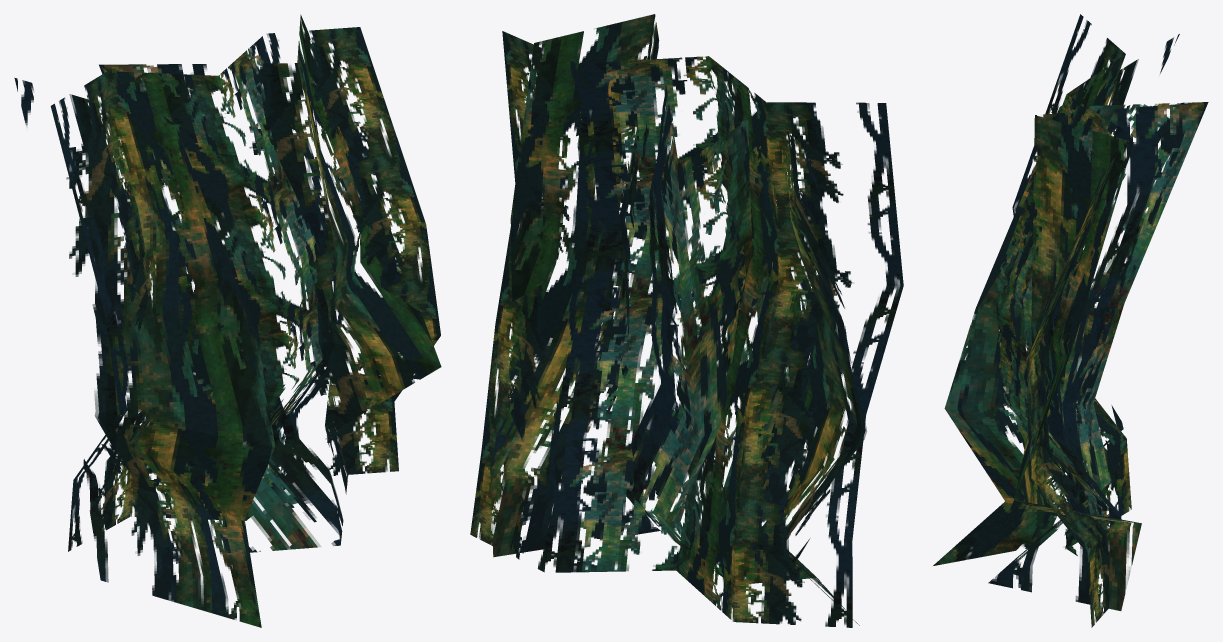
Rendered from vine_wall.glb.
3 views of the same model, side by side, from view 1: azimuth 30°, elevation 25°; view 2: azimuth 150°, elevation 25°; view 3: azimuth 270°, elevation 25° (orthographic). The views are drawn at different scales.
Parts seen in each view (by area): view 1: Plane.001, Plane; view 2: Plane, Plane.001; view 3: Plane.001, Plane.
Boxes of the visible parts, x1,y1,x2,y2 form: Plane.001: (14, 14, 441, 627); Plane: (50, 27, 440, 551); Plane: (470, 31, 903, 627); Plane.001: (490, 14, 866, 625); Plane.001: (933, 34, 1208, 610); Plane: (996, 14, 1131, 627).
Bounding box in the file's own units: 10.83 × 14.34 × 7.28.
Materials: 1 (1 with a texture image).
